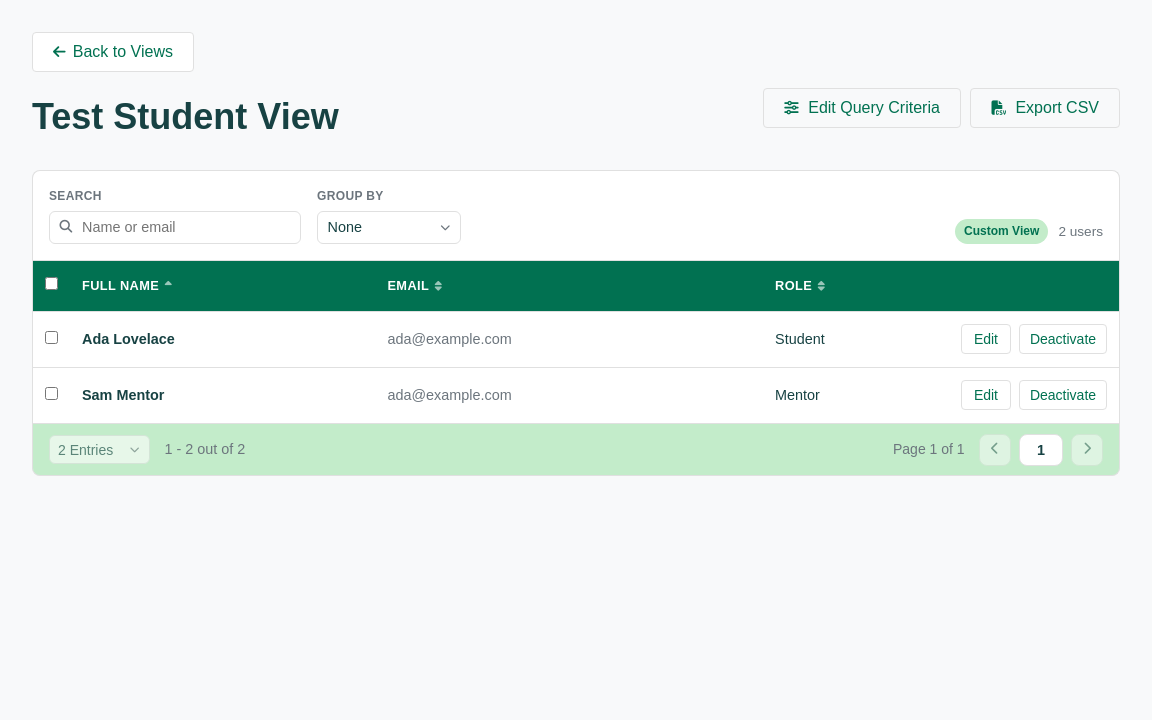
Test: AdminViewExecutedPage › disables Assign to Group for a mixed selection and enables it for an all-student selection
What coordinates should you click on to do the following:
click the 1st checkbox named "Select —"
I would click on:
 (52, 337)
Its box is x1=45 y1=331 x2=58 y2=344.
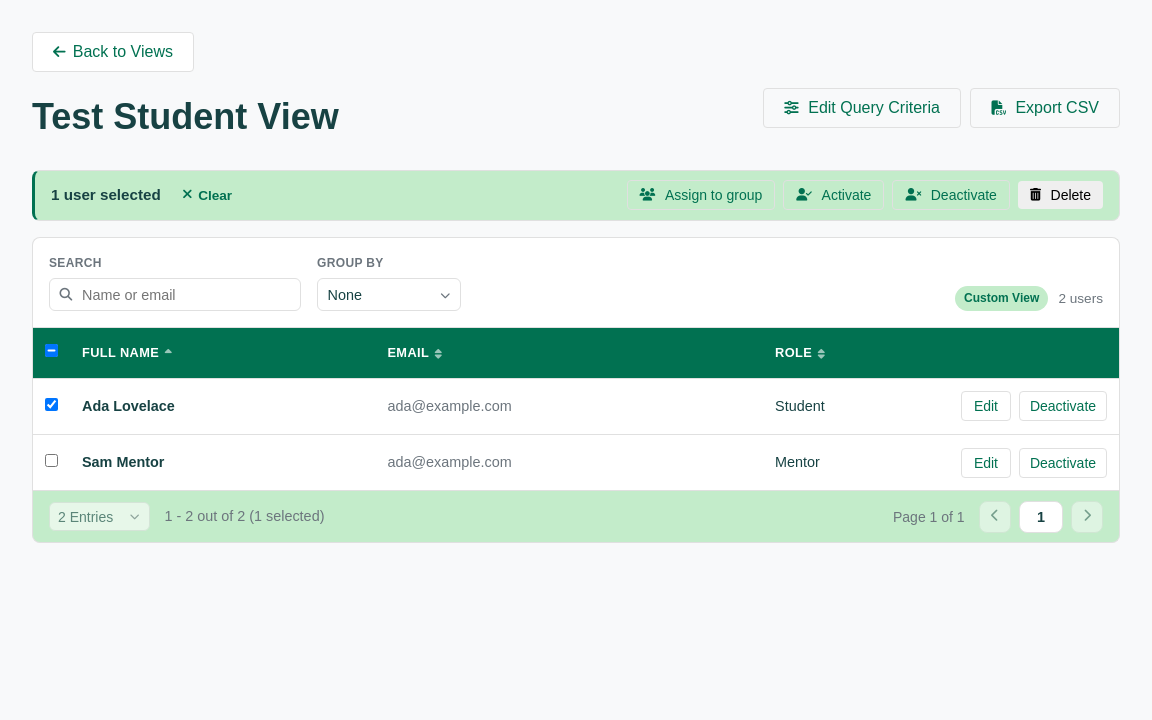
What coordinates should you click on to do the following:
click the 2nd checkbox named "Select —"
I would click on:
 (52, 461)
Its box is x1=45 y1=454 x2=58 y2=467.
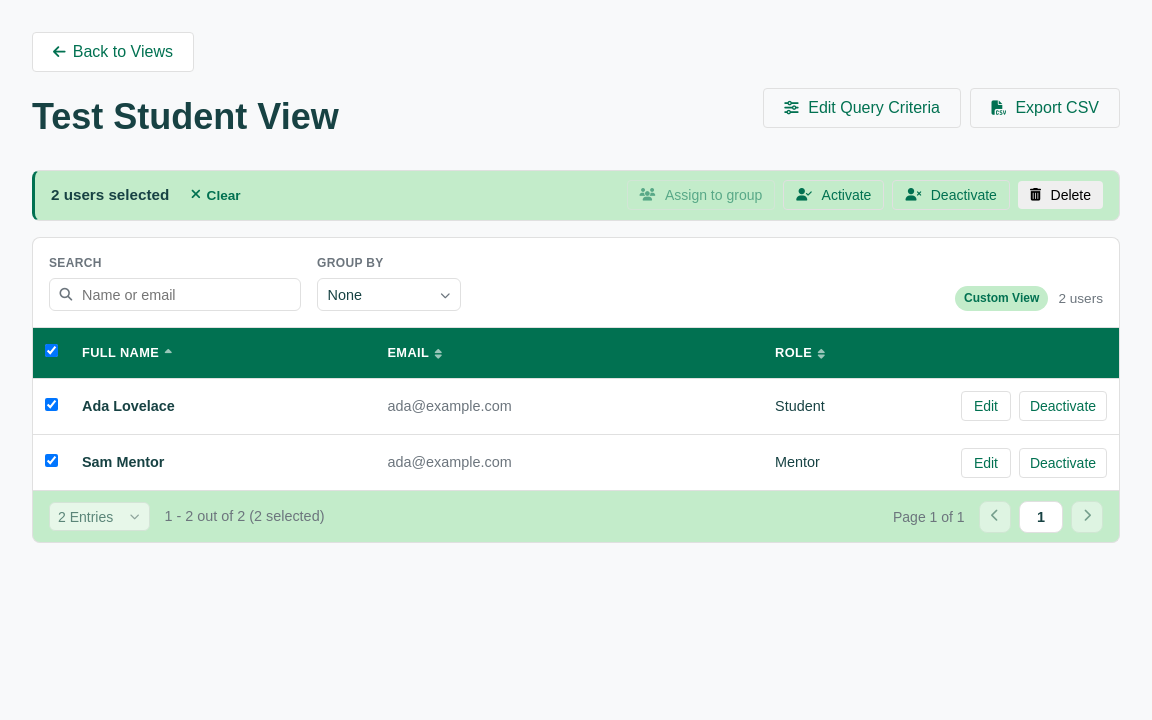
Result: the button "Assign to group" is disabled at x1=627 y1=180 x2=775 y2=210
What coordinates should you click on to do the following:
click the 2nd checkbox named "Select —"
I would click on:
 (52, 461)
Its box is x1=45 y1=454 x2=58 y2=467.
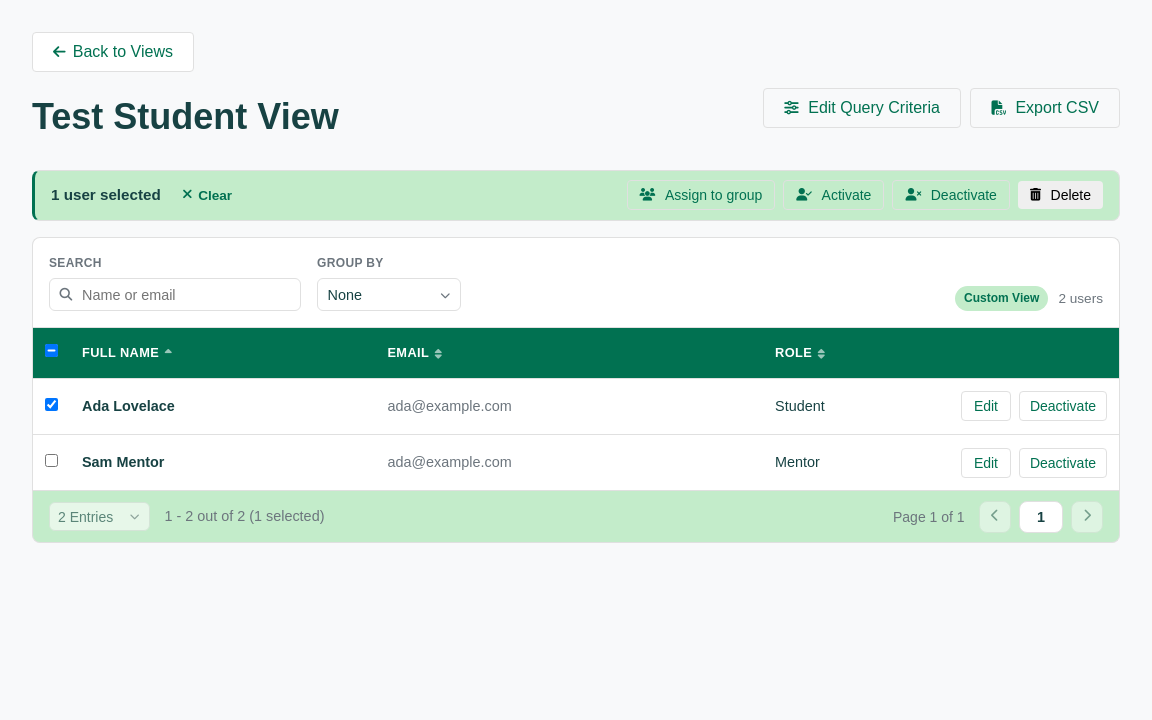
Result: the button "Assign to group" is enabled at x1=627 y1=180 x2=775 y2=210
